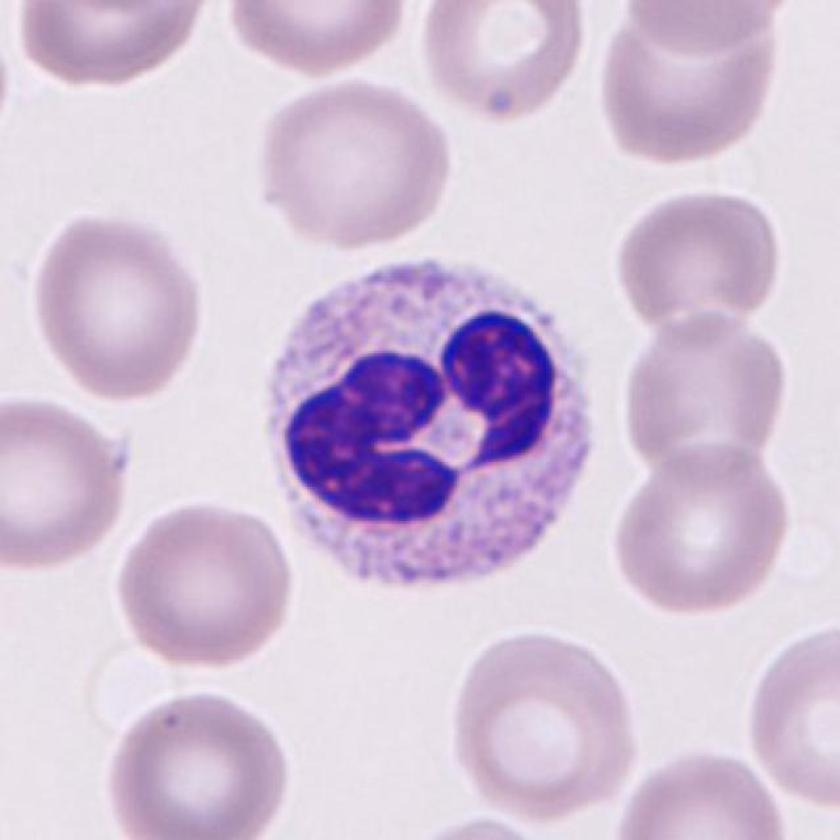neutrophil: (266, 263, 605, 580)
